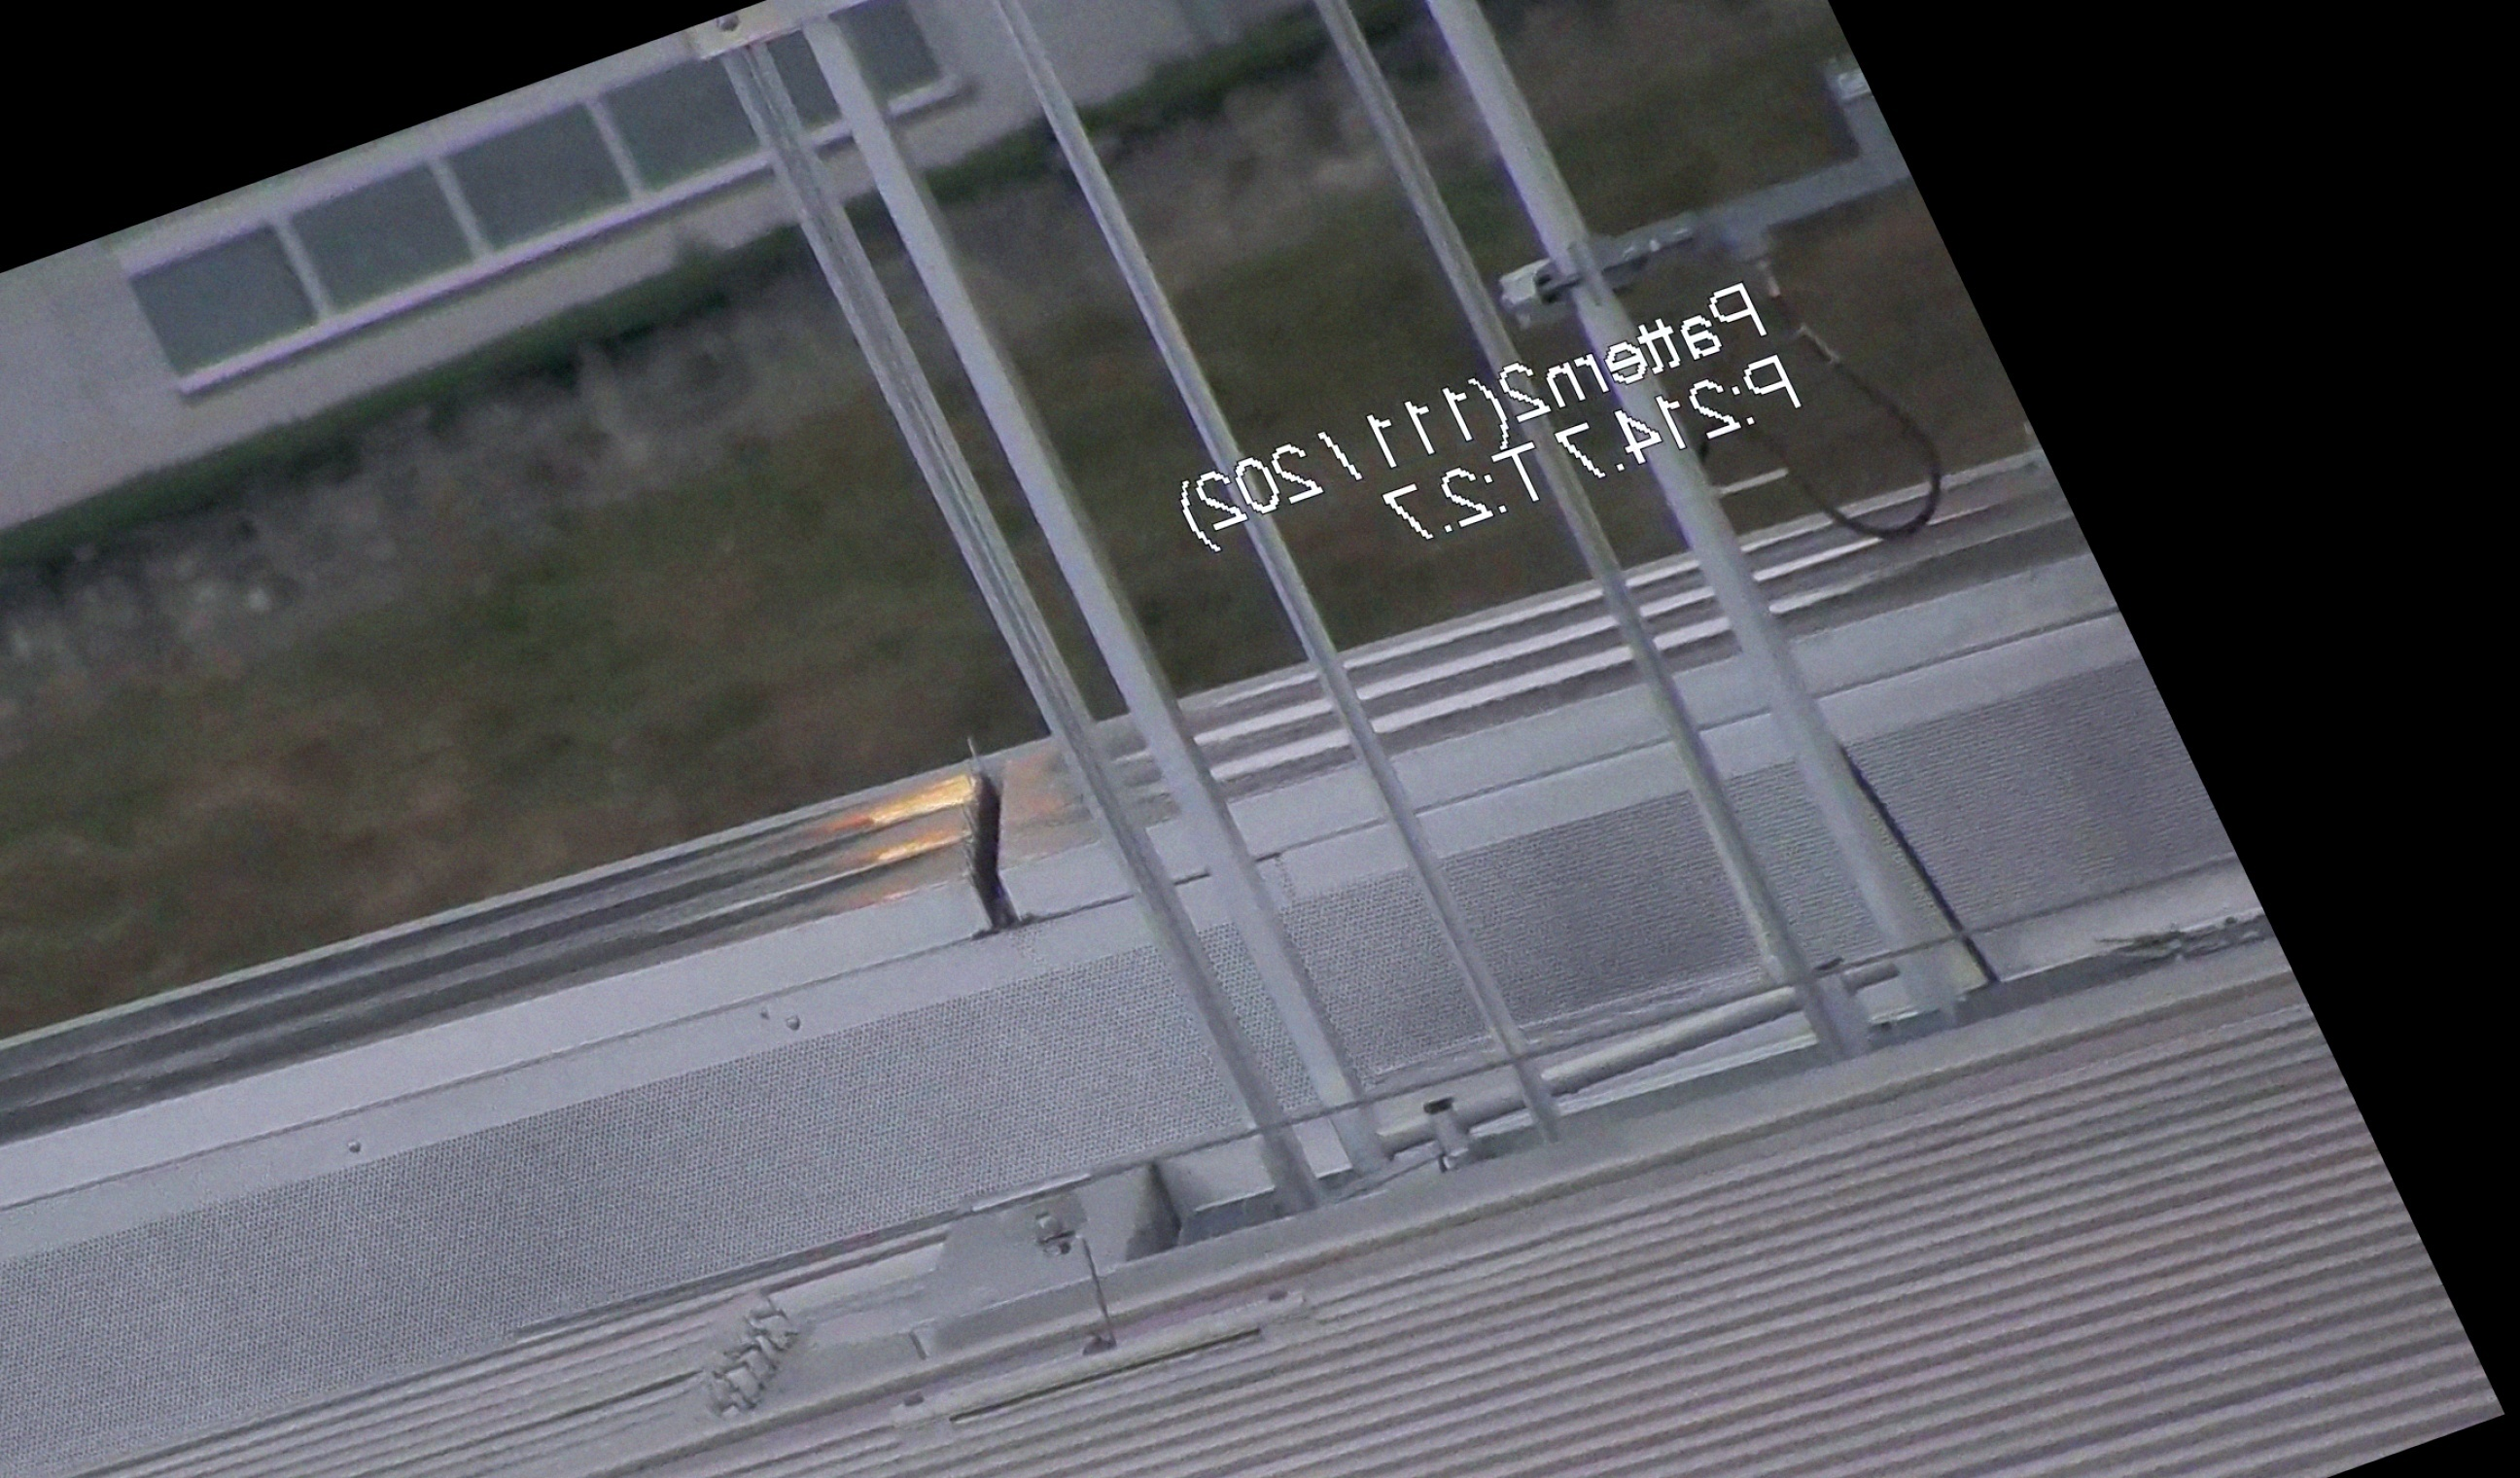Other: (876, 725, 1097, 959)
